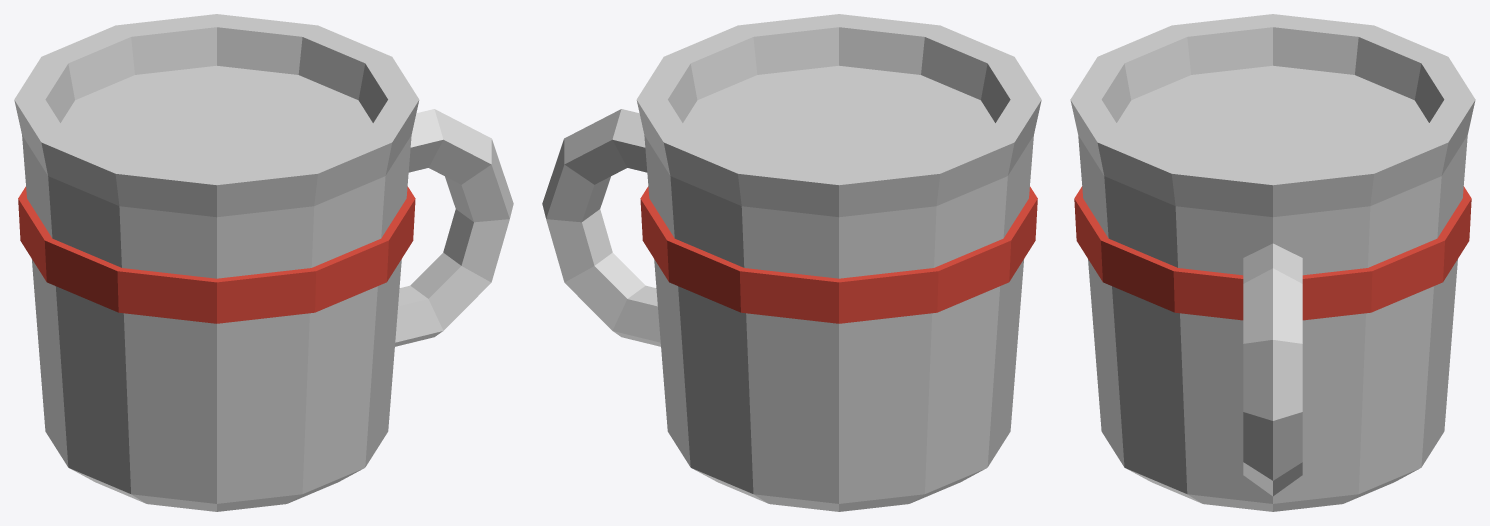
File: cup.glb
The picture shows the model from 3 angles, left to right: view 1: azimuth 30°, elevation 25°; view 2: azimuth 150°, elevation 25°; view 3: azimuth 270°, elevation 25°; orthographic projection.
Parts seen in each view (by area): view 1: tasse; view 2: tasse; view 3: tasse.
Boxes of the visible parts, x1,y1,x2,y2 form: tasse: [14, 14, 513, 511]; tasse: [542, 14, 1041, 511]; tasse: [1070, 14, 1475, 511].
Bounding box in the file's own units: 0.7 × 0.5 × 0.52.
